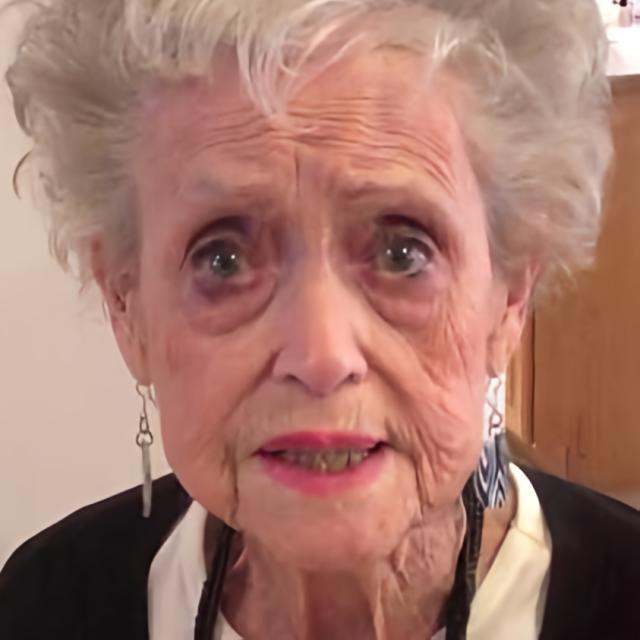fear: (140, 41, 488, 579)
